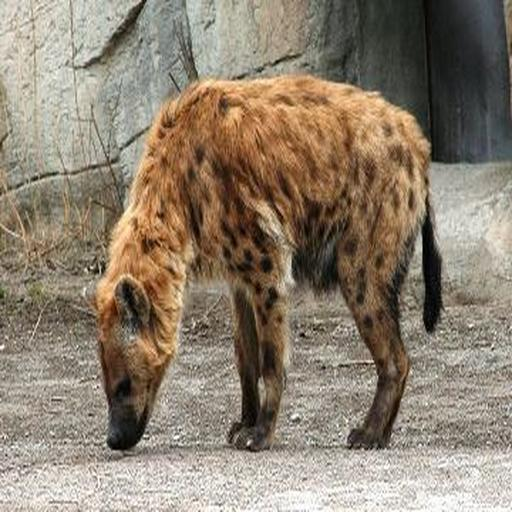Hyena: (85, 69, 443, 448)
